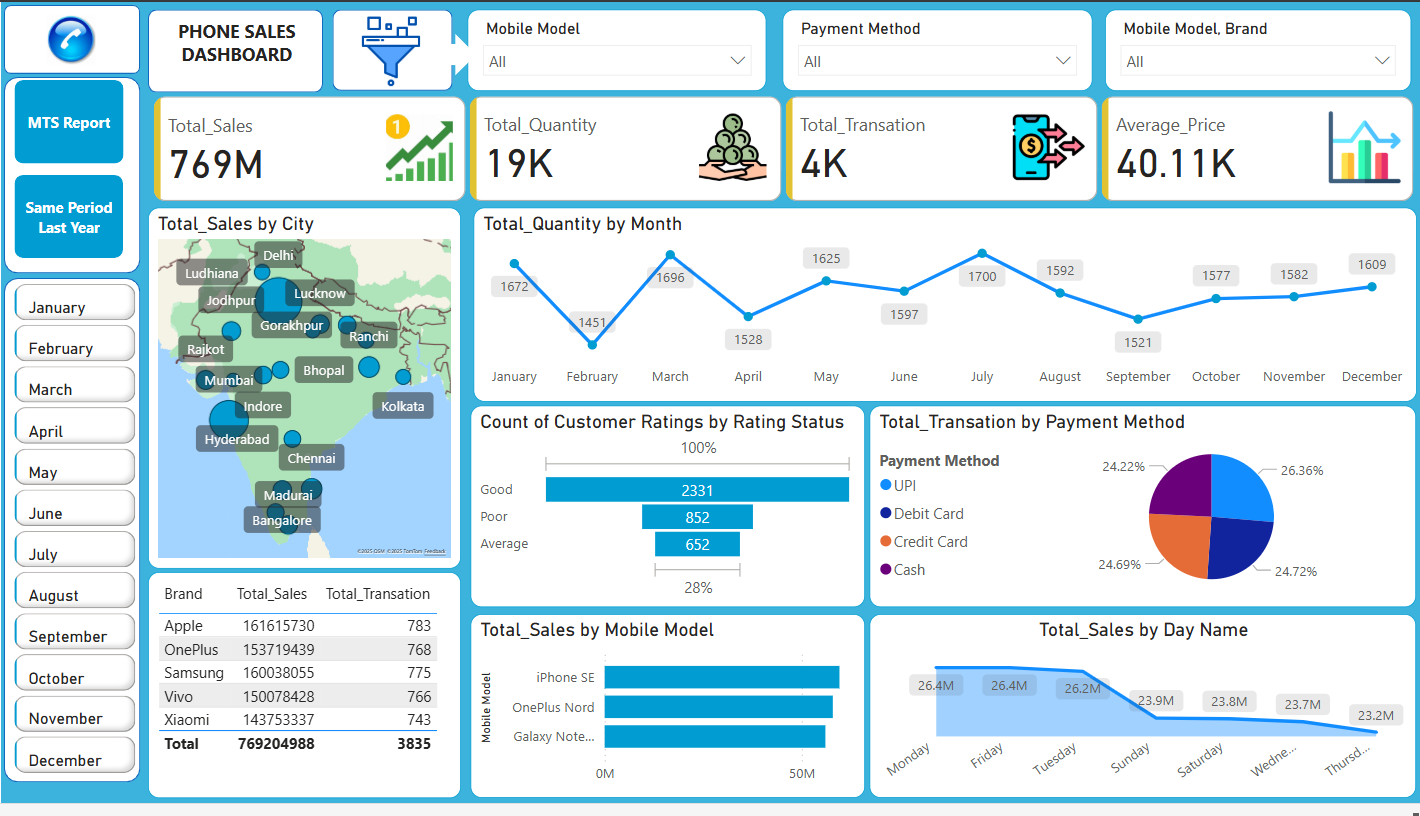

Layout of this report page (visuals, bound fields, positions):
{"tool":"powerbi","page":{"name":"Dashboard","canvas":[1280,720],"ordinal":0},"visuals":[{"type":"shape","box":[3.2,3.2,122.5,62],"z":0},{"type":"image","box":[14.3,6.4,95.4,54.1],"z":1000},{"type":"shape","box":[3.2,66.8,122.5,176.6],"z":2000},{"type":"shape","box":[3.2,248.1,122.5,453.3],"z":3000},{"type":"advancedSlicerVisual","fields":{"Values":["Custome_Calendar.Date.Variation.Date Hierarchy.Month"]},"box":[6.4,248.1,119.3,456.5],"z":4000},{"type":"cardVisual","fields":{"Data":["Sales_Data.Total_Sales","Sales_Data.Total_Quantity","Sales_Data.Total_Transation","Sales_Data.Average_Price"]},"box":[131.9,79.2,1142.1,105],"z":5000},{"type":"slicer","fields":{"Values":["Sales_Data.Mobile Model"]},"box":[419.9,6.4,268.8,73.2],"z":6000},{"type":"slicer","fields":{"Values":["Sales_Data.Payment Method"]},"box":[703.1,6.4,278.4,73.2],"z":7000},{"type":"slicer","fields":{"Values":["Sales_Data.Mobile Model","Sales_Data.Brand"]},"box":[992.5,6.4,275.2,73.2],"z":8000},{"type":"shape","box":[297.4,6.4,108.2,73.2],"z":9000},{"type":"image","box":[259.3,6.4,182.9,74.8],"z":10000},{"type":"shape","box":[383.3,28.6,44.5,38.2],"z":11000},{"type":"shape","box":[131.9,6.1,157.5,74.8],"z":12000},{"type":"textbox","box":[140,10,143.3,60],"z":13000},{"type":"azureMap","fields":{"Category":["Sales_Data.City"],"Size":["Sales_Data.Total_Sales"]},"box":[131.9,184.2,281.5,324.5],"z":14000},{"type":"lineChart","fields":{"Category":["Custome_Calendar.Date.Variation.Date Hierarchy.Month"],"Y":["Sales_Data.Total_Quantity"]},"box":[424.7,184.5,847.8,175],"z":15000},{"type":"funnel","fields":{"Y":["CountNonNull(Sales_Data.Customer Ratings)"],"Category":["Sales_Data.Rating Status"]},"box":[421.5,362.7,354.7,181.3],"z":16000},{"type":"pieChart","fields":{"Y":["Sales_Data.Total_Transation"],"Category":["Sales_Data.Payment Method"]},"box":[781,362.7,491.5,181.3],"z":17000},{"type":"clusteredBarChart","fields":{"Y":["Sales_Data.Total_Sales"],"Category":["Sales_Data.Mobile Model"]},"box":[421.5,550.4,354.7,165.4],"z":18000},{"type":"areaChart","fields":{"Y":["Sales_Data.Total_Sales"],"Category":["Custome_Calendar.Day Name"]},"box":[781,550.4,491.5,165.4],"z":19000},{"type":"tableEx","fields":{"Values":["Sales_Data.Brand","Sales_Data.Total_Sales","Sales_Data.Total_Transation"]},"box":[131.9,511.9,281.5,203.6],"z":20000},{"type":"pageNavigator","box":[11.7,70,98.3,161.7],"z":20001}]}

Visuals, with their boxes in screenshot pixels (x1, y1, x2, y2), scaled from the page's 1280x720 canvas onto the 1420x816 screenshot:
shape: 4/4/139/74
image: 16/7/122/69
shape: 4/76/139/276
shape: 4/281/139/795
advancedSlicerVisual - Custome_Calendar.Date.Variation.Date Hierarchy.Month: 7/281/139/799
cardVisual - Sales_Data.Total_Sales x Sales_Data.Total_Quantity: 146/90/1413/209
slicer - Sales_Data.Mobile Model: 466/7/764/90
slicer - Sales_Data.Payment Method: 780/7/1089/90
slicer - Sales_Data.Mobile Model x Sales_Data.Brand: 1101/7/1406/90
shape: 330/7/450/90
image: 288/7/491/92
shape: 425/32/475/76
shape: 146/7/321/92
textbox: 155/11/314/79
azureMap - Sales_Data.City x Sales_Data.Total_Sales: 146/209/459/577
lineChart - Custome_Calendar.Date.Variation.Date Hierarchy.Month x Sales_Data.Total_Quantity: 471/209/1412/407
funnel - CountNonNull(Sales_Data.Customer Ratings) x Sales_Data.Rating Status: 468/411/861/617
pieChart - Sales_Data.Total_Transation x Sales_Data.Payment Method: 866/411/1412/617
clusteredBarChart - Sales_Data.Total_Sales x Sales_Data.Mobile Model: 468/624/861/811
areaChart - Sales_Data.Total_Sales x Custome_Calendar.Day Name: 866/624/1412/811
tableEx - Sales_Data.Brand x Sales_Data.Total_Sales: 146/580/459/811
pageNavigator: 13/79/122/263
